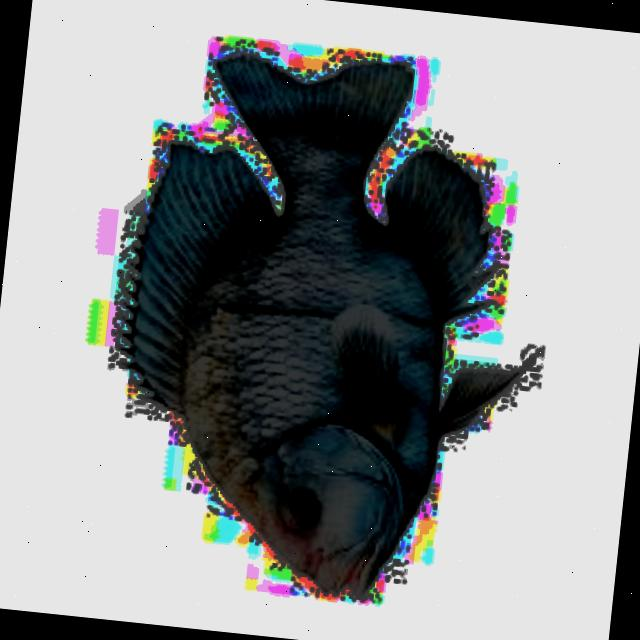Healthy Fish: (131, 55, 525, 597)
